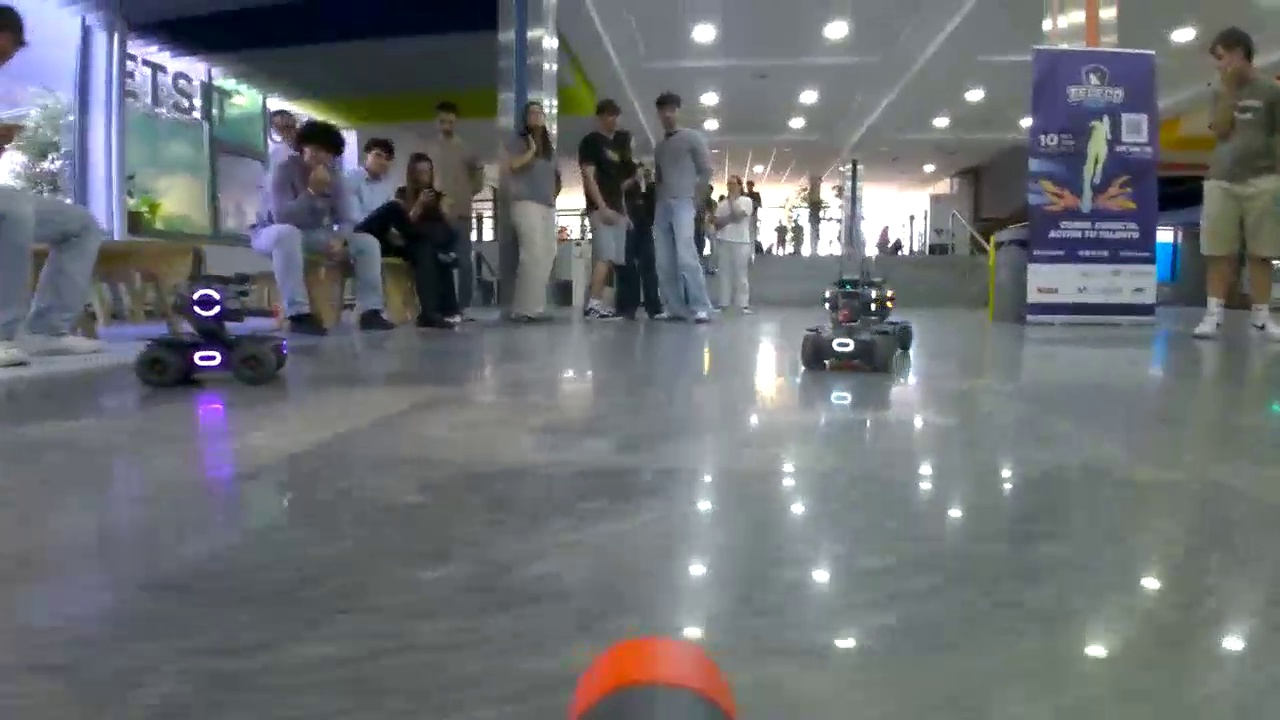robot: (133, 285, 290, 385), (800, 275, 912, 372)
